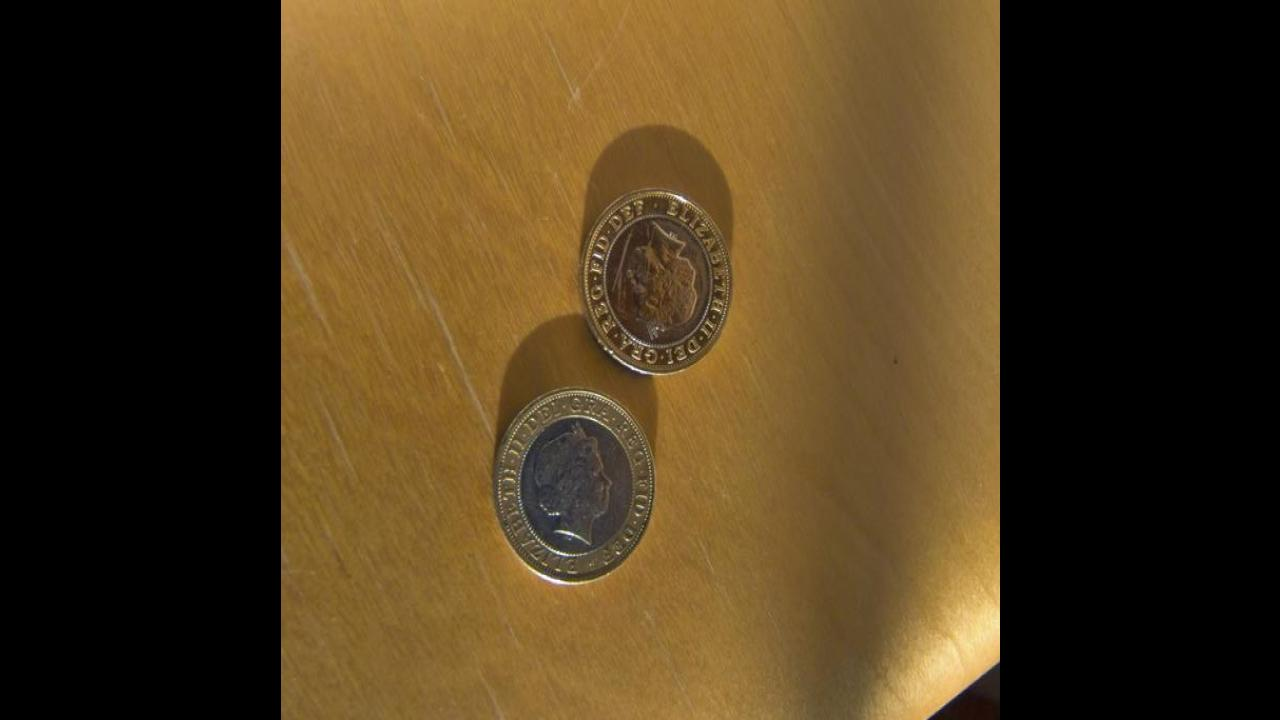coin: (490, 382, 658, 587), (582, 191, 732, 379)
